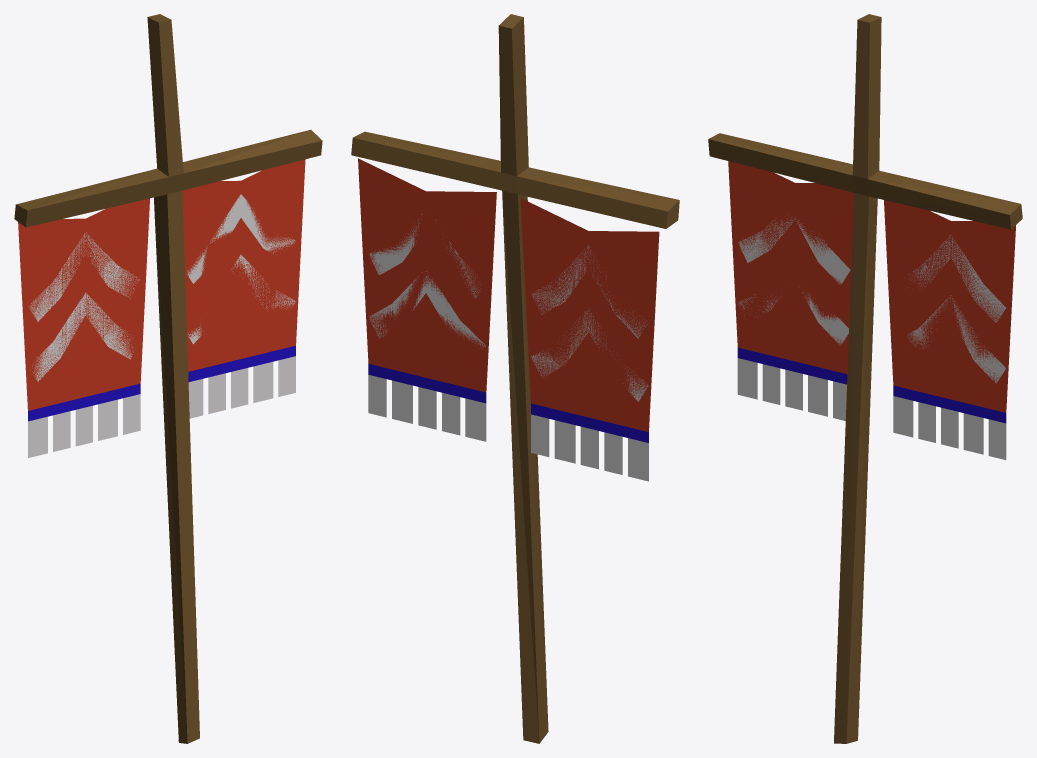
File: obj_standard_13_0.obj
3 views of the same model, side by side, from view 1: azimuth 30°, elevation 25°; view 2: azimuth 150°, elevation 25°; view 3: azimuth 330°, elevation 25° (orthographic). The views are drawn at different scales.
Size of the model in its own units: 0.9297 by 2.11 by 0.2031.
